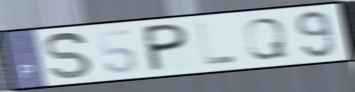5: (94, 27, 139, 75)
9: (292, 8, 340, 61)
L: (194, 20, 240, 68)
P: (143, 21, 191, 75)
Q: (242, 16, 291, 61)
S: (43, 31, 95, 81)
